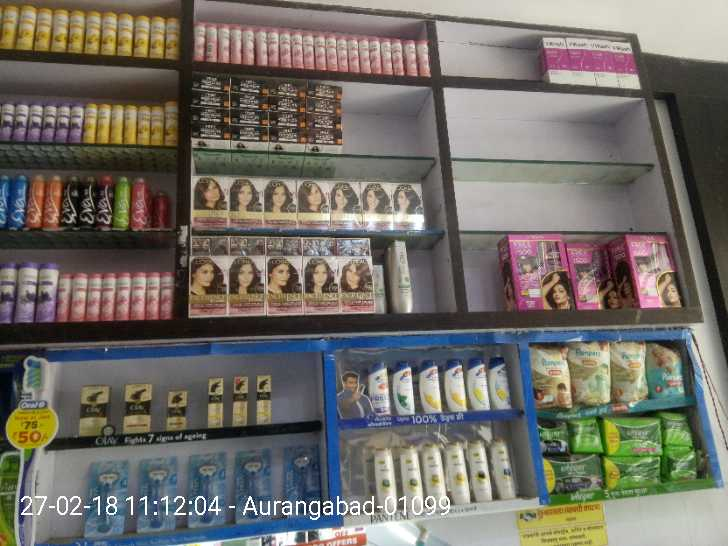venus: (86, 461, 133, 539), (235, 451, 275, 517), (143, 456, 178, 531), (286, 441, 321, 514), (192, 453, 227, 522)
